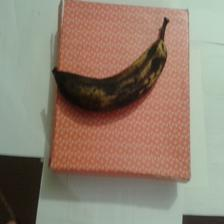Banana Rotten: (51, 53, 166, 122)
